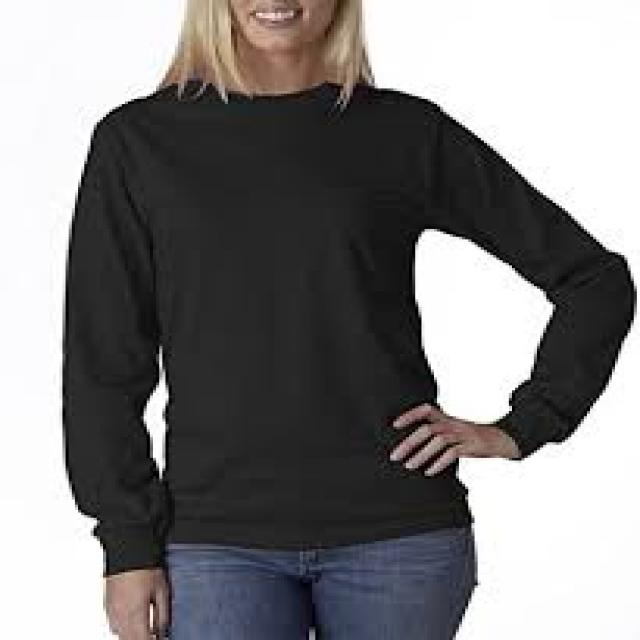plain: (56, 63, 636, 571)
